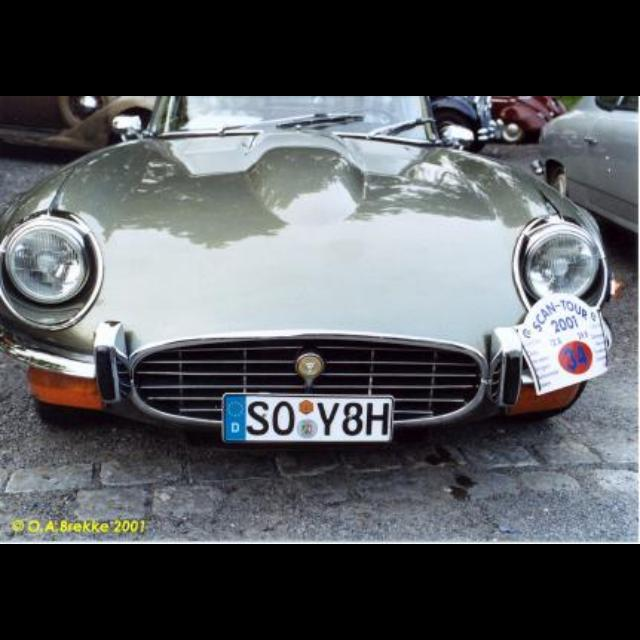license-plates: (225, 396, 394, 444)
